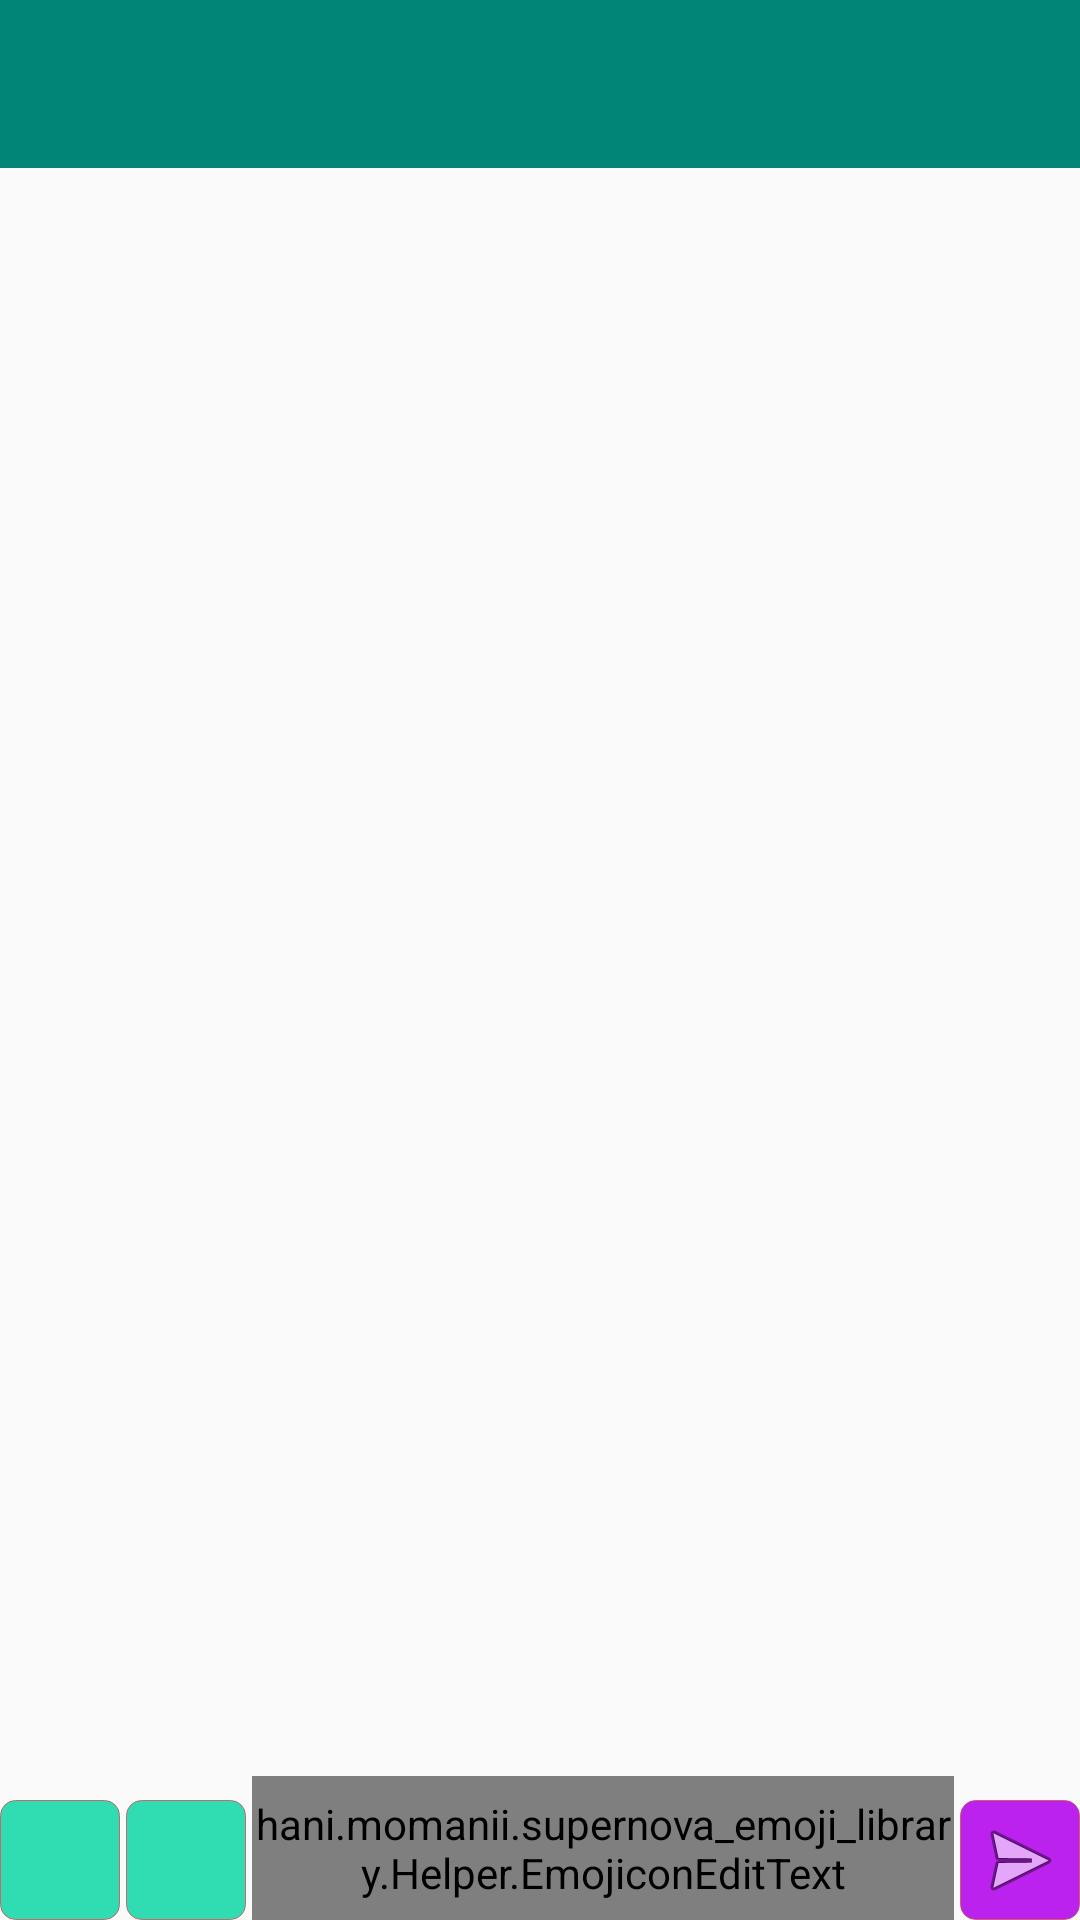

Where icons sit on this 1080 x 1920 app screen, as (x1, y1, x2, y2):
send: (960, 1800, 1080, 1920)
